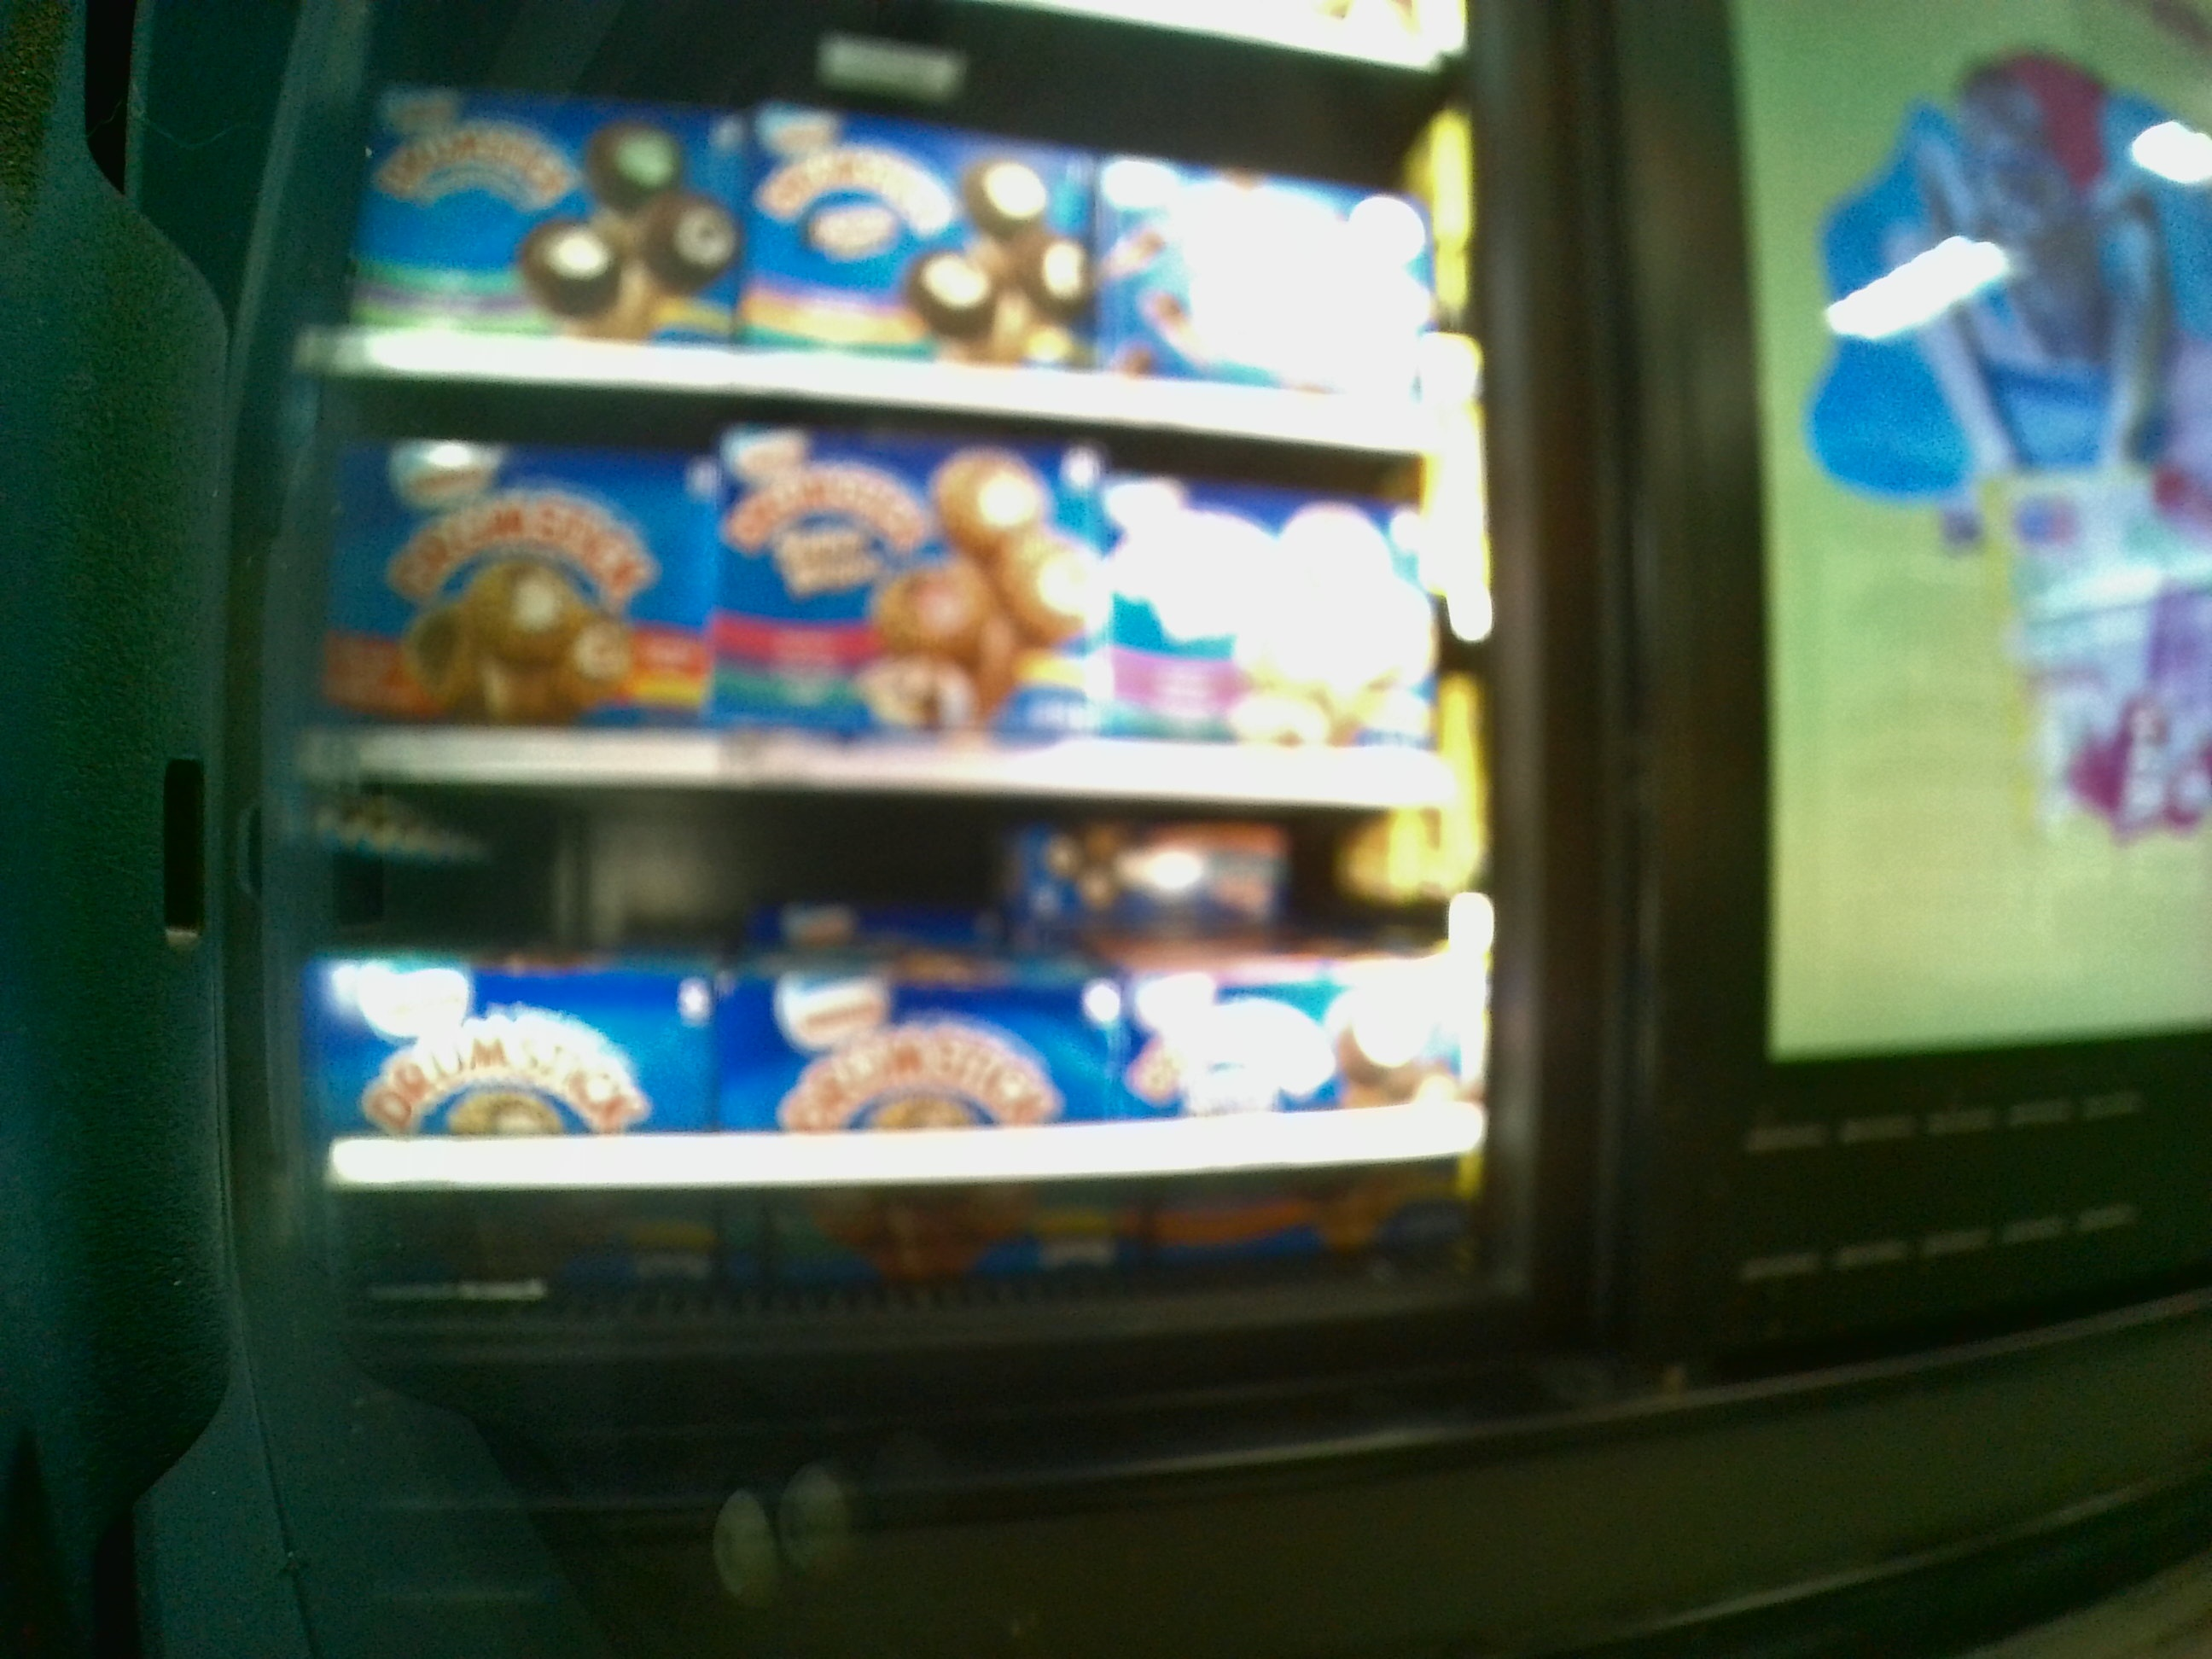shelf: (293, 793, 1505, 1293), (280, 422, 1510, 805), (327, 9, 1480, 416)
